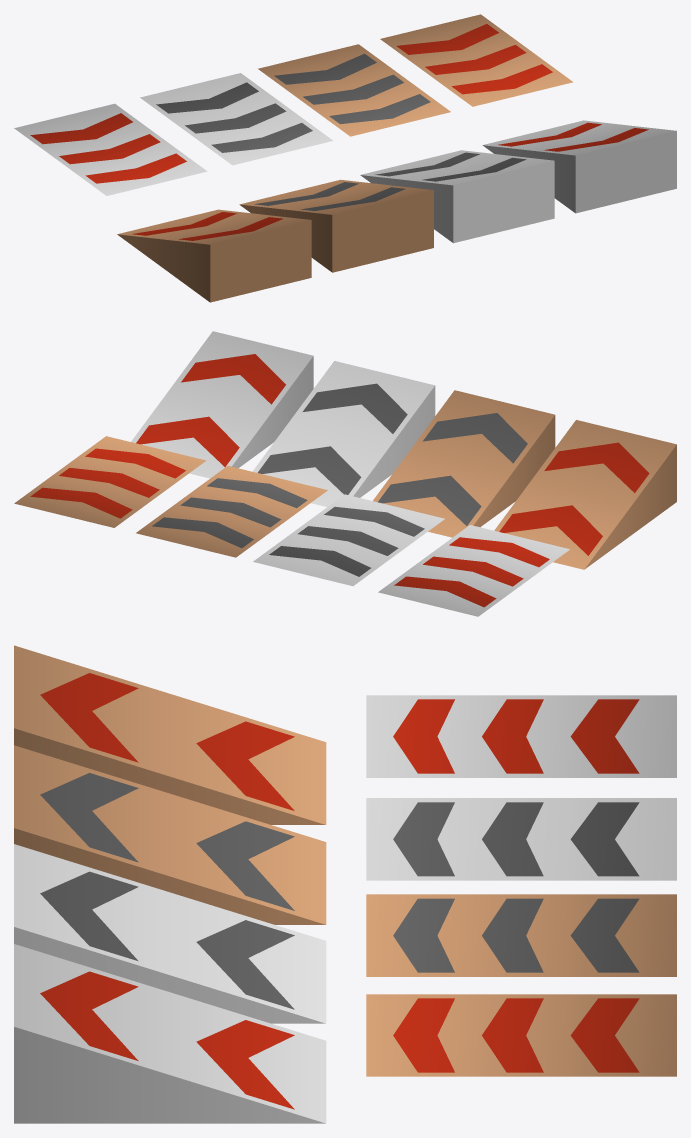
The model's file is Boost e rampa.fbx.
3 views of the same model, one above another, from view 1: azimuth 30°, elevation 25°; view 2: azimuth 150°, elevation 25°; view 3: azimuth 270°, elevation 25° (orthographic). The views are drawn at different scales.
Visible parts, largest first — view 1: Rampa 3, Rampa 1, Rampa 2, Rampa 4, Boost 3, Boost 1, Boost 4, Boost 2; view 2: Rampa 3, Rampa 1, Rampa 2, Rampa 4, Boost 4, Boost 3, Boost 1, Boost 2; view 3: Rampa 2, Rampa 4, Rampa 3, Rampa 1, Boost 1, Boost 2, Boost 3, Boost 4.
Part boxes in pixels (x1=…): Rampa 3: x1=117, y1=209, x2=311, y2=302; Rampa 1: x1=239, y1=179, x2=433, y2=272; Rampa 2: x1=482, y1=120, x2=676, y2=213; Rampa 4: x1=360, y1=150, x2=554, y2=243; Boost 3: x1=380, y1=14, x2=573, y2=106; Boost 1: x1=258, y1=44, x2=450, y2=136; Boost 4: x1=140, y1=73, x2=333, y2=165; Boost 2: x1=14, y1=103, x2=207, y2=195; Rampa 3: x1=494, y1=420, x2=676, y2=569; Rampa 1: x1=373, y1=390, x2=555, y2=537; Rampa 2: x1=131, y1=331, x2=313, y2=478; Rampa 4: x1=252, y1=361, x2=435, y2=506; Boost 4: x1=253, y1=494, x2=444, y2=586; Boost 3: x1=14, y1=436, x2=206, y2=527; Boost 1: x1=136, y1=466, x2=327, y2=557; Boost 2: x1=378, y1=525, x2=569, y2=616; Rampa 2: x1=14, y1=944, x2=326, y2=1123; Rampa 4: x1=14, y1=844, x2=326, y2=1023; Rampa 3: x1=14, y1=645, x2=326, y2=824; Rampa 1: x1=14, y1=745, x2=326, y2=924; Boost 1: x1=366, y1=894, x2=676, y2=976; Boost 2: x1=366, y1=695, x2=676, y2=777; Boost 3: x1=366, y1=994, x2=676, y2=1076; Boost 4: x1=366, y1=798, x2=676, y2=880.
Bounding box in the file's own units: 1694 × 200 × 1240.
2 materials, 2 textured.
